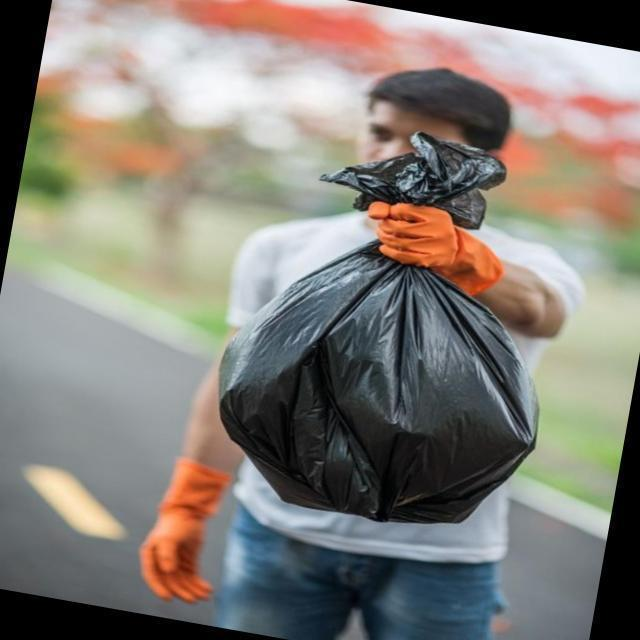Garbage_Bag: (183, 99, 594, 556)
